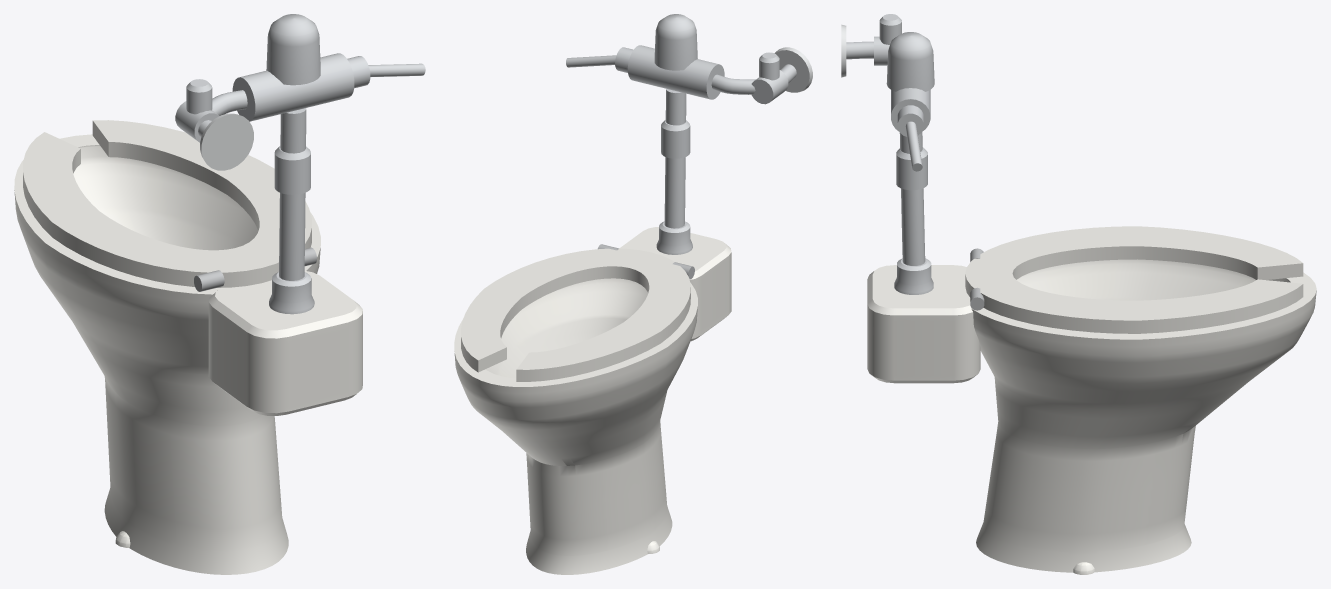
Rendered from commercial_flushometer_toilet.obj.
3 renders of one model, left to right at view 1: azimuth 30°, elevation 25°; view 2: azimuth 150°, elevation 25°; view 3: azimuth 270°, elevation 25°, orthographic. The views are drawn at different scales.
Visible parts, largest first — view 1: bowl_outer, seat, flushometer, neck, bowl_inner, rim, stop_escutcheon; view 2: bowl_outer, seat, flushometer, bowl_inner, neck, rim, stop_escutcheon; view 3: bowl_outer, seat, neck, flushometer, bowl_inner, rim.
Part boxes in pixels (x1,y1,x2,y2): bowl_outer: [14, 190, 320, 574]; seat: [23, 120, 311, 287]; flushometer: [175, 14, 425, 314]; neck: [208, 271, 362, 415]; bowl_inner: [73, 145, 258, 250]; rim: [14, 134, 320, 294]; stop_escutcheon: [200, 113, 253, 170]; bowl_outer: [454, 306, 697, 574]; seat: [461, 248, 690, 381]; flushometer: [566, 14, 796, 254]; bowl_inner: [485, 278, 647, 378]; neck: [619, 227, 731, 341]; rim: [454, 283, 697, 386]; stop_escutcheon: [774, 47, 812, 92]; bowl_outer: [971, 290, 1316, 572]; seat: [965, 226, 1303, 333]; neck: [867, 265, 980, 383]; flushometer: [846, 14, 934, 294]; bowl_inner: [1016, 259, 1290, 300]; rim: [971, 272, 1316, 339].
Size of the model in its own units: 0.4017 by 0.84 by 0.7145.
